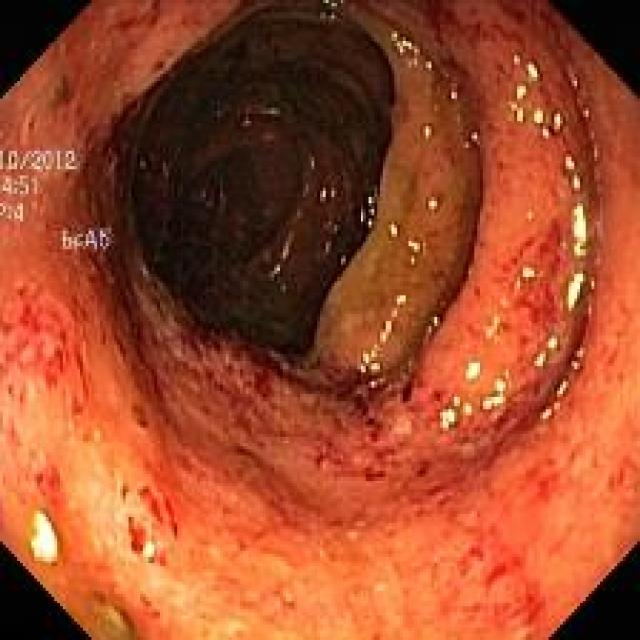ulcerative-colitis-grade-3: (1, 3, 640, 638)
